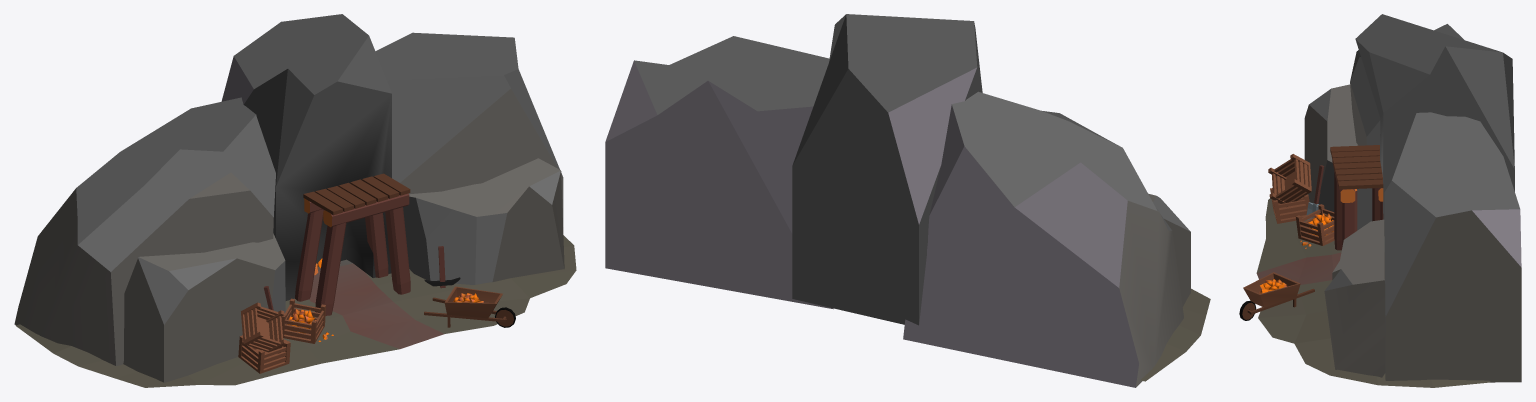
File: iron_mine_Low3.fbx
3 renders of one model, left to right at view 1: azimuth 30°, elevation 25°; view 2: azimuth 150°, elevation 25°; view 3: azimuth 270°, elevation 25°, orthographic. The views are drawn at different scales.
Parts seen in each view (by area): view 1: rock, Plane, entrance.002, Cube.007, box.006, box, box.001, box.002; view 2: rock, Plane; view 3: rock, Plane, Cube.007, box.006, entrance.002, box, box.001, box.002, pickaxe.003.
Part boxes in pixels (x1=…): rock: x1=14, y1=14, x2=564, y2=382; Plane: x1=15, y1=235, x2=576, y2=387; entrance.002: x1=295, y1=193, x2=410, y2=315; Cube.007: x1=303, y1=173, x2=410, y2=215; box.006: x1=424, y1=286, x2=515, y2=327; box: x1=241, y1=302, x2=286, y2=352; box.001: x1=281, y1=298, x2=325, y2=343; box.002: x1=238, y1=335, x2=290, y2=373; rock: x1=605, y1=14, x2=1190, y2=387; Plane: x1=1140, y1=288, x2=1210, y2=381; rock: x1=1300, y1=14, x2=1521, y2=382; Plane: x1=1256, y1=194, x2=1490, y2=387; Cube.007: x1=1330, y1=145, x2=1383, y2=189; box.006: x1=1239, y1=272, x2=1314, y2=320; entrance.002: x1=1332, y1=160, x2=1383, y2=250; box: x1=1268, y1=154, x2=1311, y2=206; box.001: x1=1296, y1=204, x2=1334, y2=245; box.002: x1=1270, y1=188, x2=1309, y2=223; pickaxe.003: x1=1306, y1=165, x2=1324, y2=220.
Size of the model in its own units: 911 by 446 by 454.
